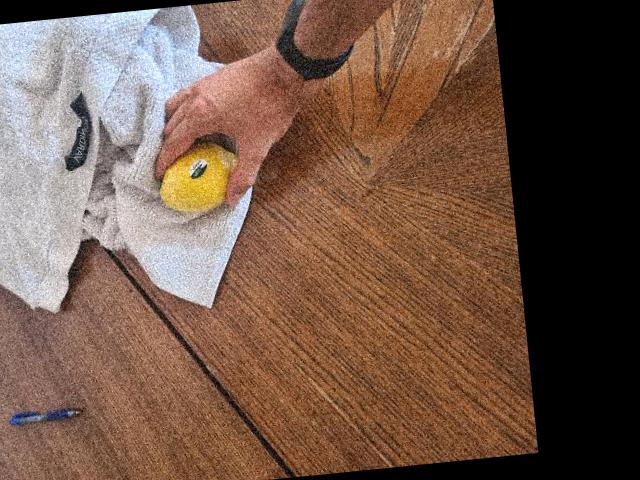lemon: (154, 133, 249, 216)
